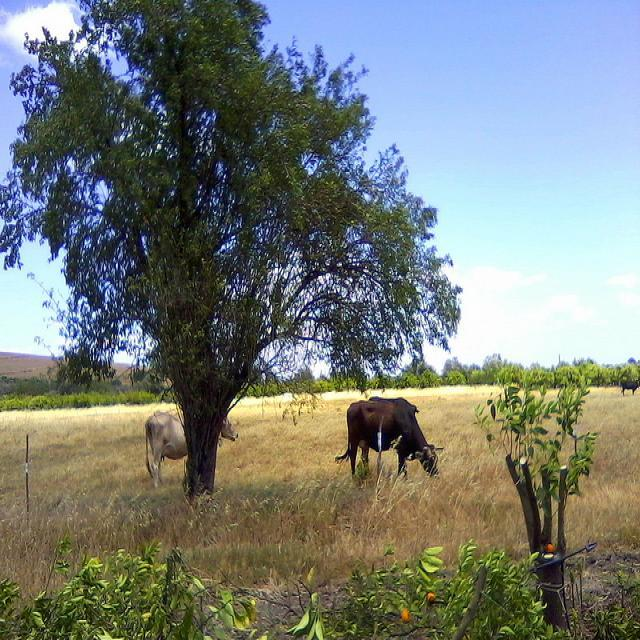cow: (333, 397, 444, 476), (144, 407, 235, 487), (618, 376, 638, 393)
